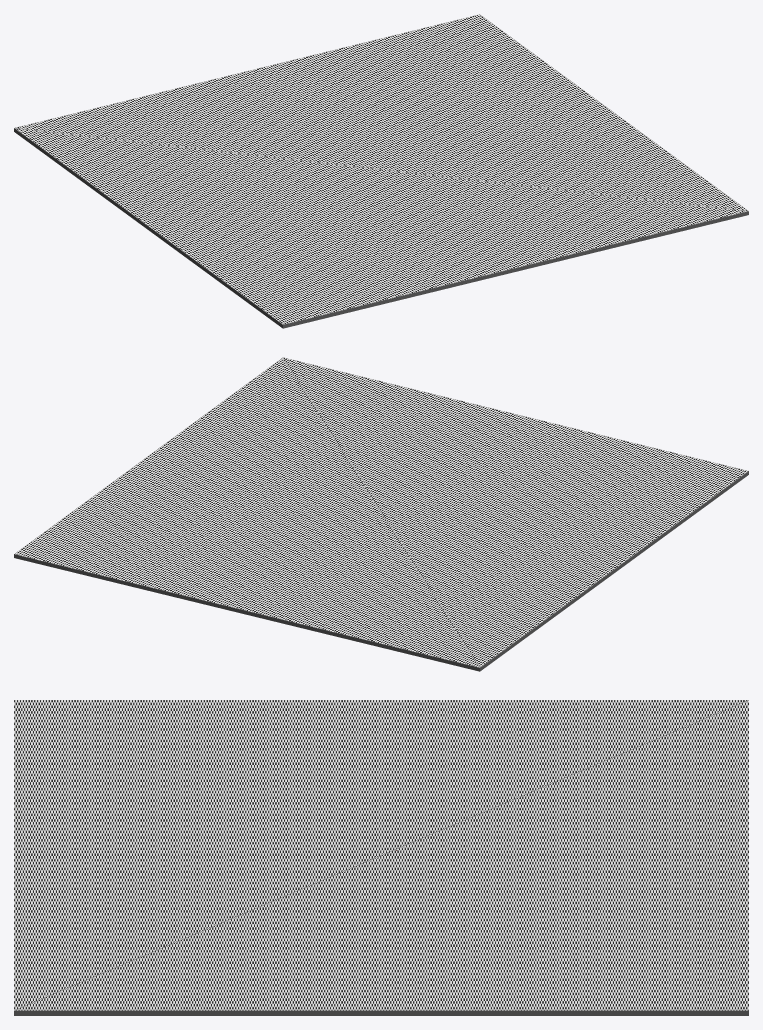
The model's file is santa.gltf.
The picture shows the model from 3 angles, top to bottom: view 1: azimuth 30°, elevation 25°; view 2: azimuth 150°, elevation 25°; view 3: azimuth 270°, elevation 25°; orthographic projection. The views are drawn at different scales.
Visible parts, largest first — view 1: Texture, Baseplate; view 2: Texture, Baseplate; view 3: Texture, Baseplate.
Part boxes in pixels (x1=…): Texture: x1=14, y1=14, x2=748, y2=324; Baseplate: x1=14, y1=128, x2=748, y2=328; Texture: x1=14, y1=357, x2=748, y2=667; Baseplate: x1=14, y1=471, x2=748, y2=671; Texture: x1=14, y1=700, x2=748, y2=1010; Baseplate: x1=14, y1=1010, x2=748, y2=1015.
Size of the model in its own units: 2048 by 18.44 by 2048.
5 materials, 3 textured.
